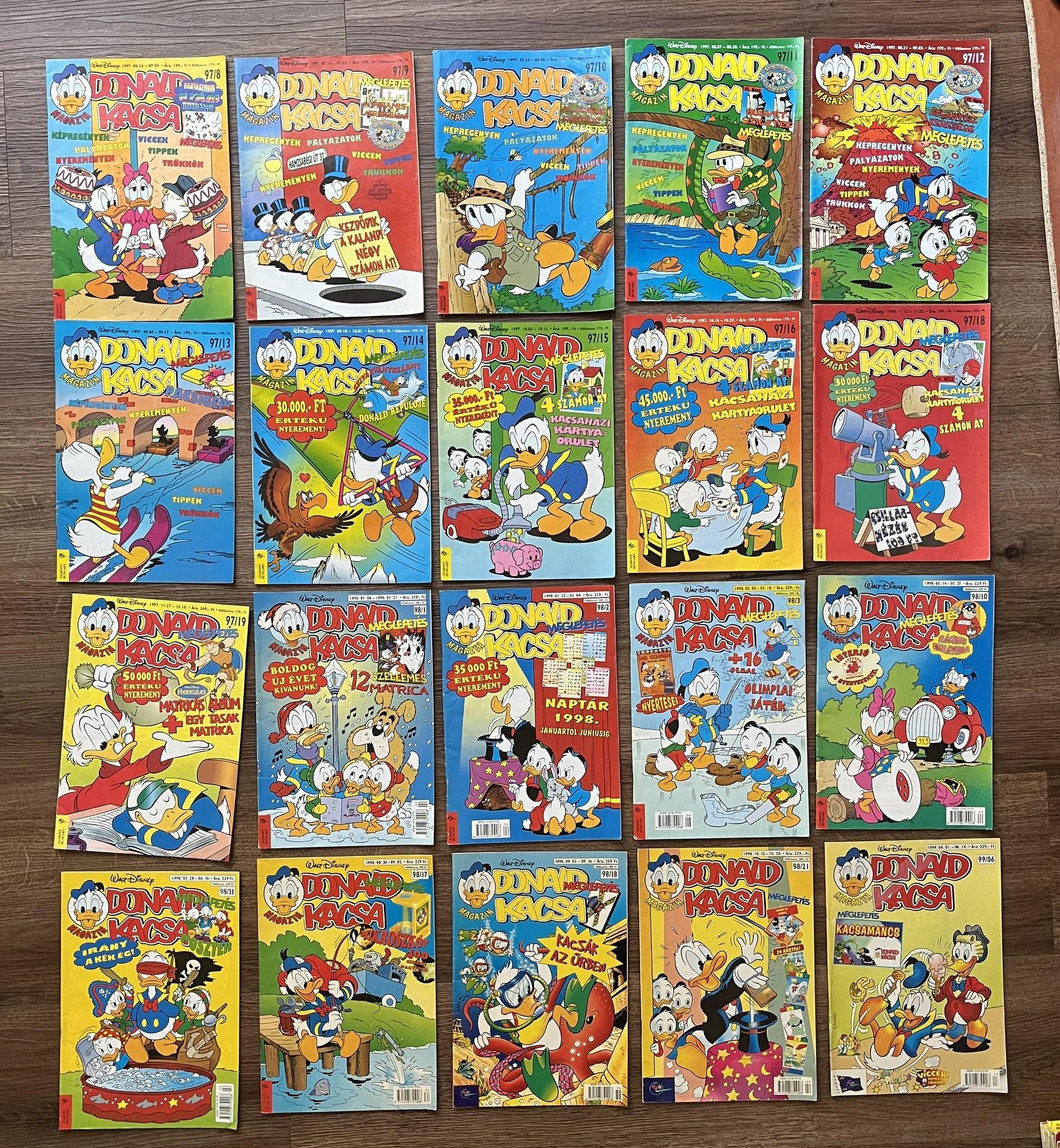comic: (53, 592, 251, 865), (232, 48, 426, 325), (46, 54, 234, 324), (807, 35, 992, 305), (821, 836, 1008, 1098), (434, 46, 615, 315), (59, 869, 241, 1134), (627, 579, 811, 841), (625, 36, 803, 306), (435, 318, 617, 581), (55, 320, 236, 584), (254, 586, 435, 849), (440, 583, 620, 846), (251, 324, 432, 585), (626, 311, 802, 575), (638, 844, 816, 1104), (258, 854, 436, 1114), (815, 573, 994, 831), (813, 303, 990, 561), (452, 852, 627, 1108)
